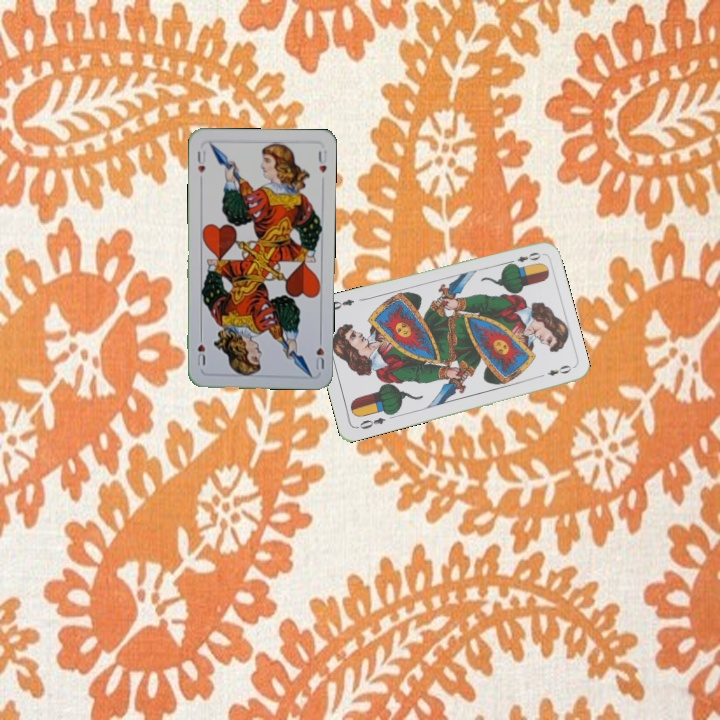EO: (504, 248, 543, 269), (353, 413, 388, 432)
HU: (310, 333, 326, 372), (194, 147, 208, 175)
